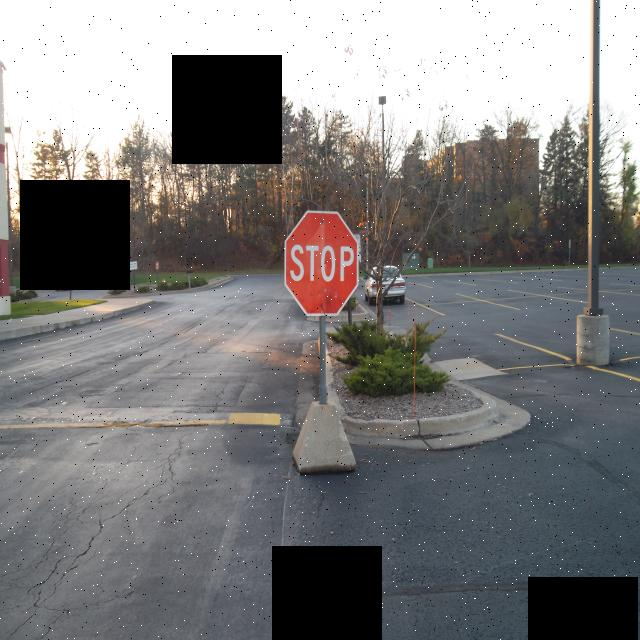stop: (282, 204, 360, 323)
